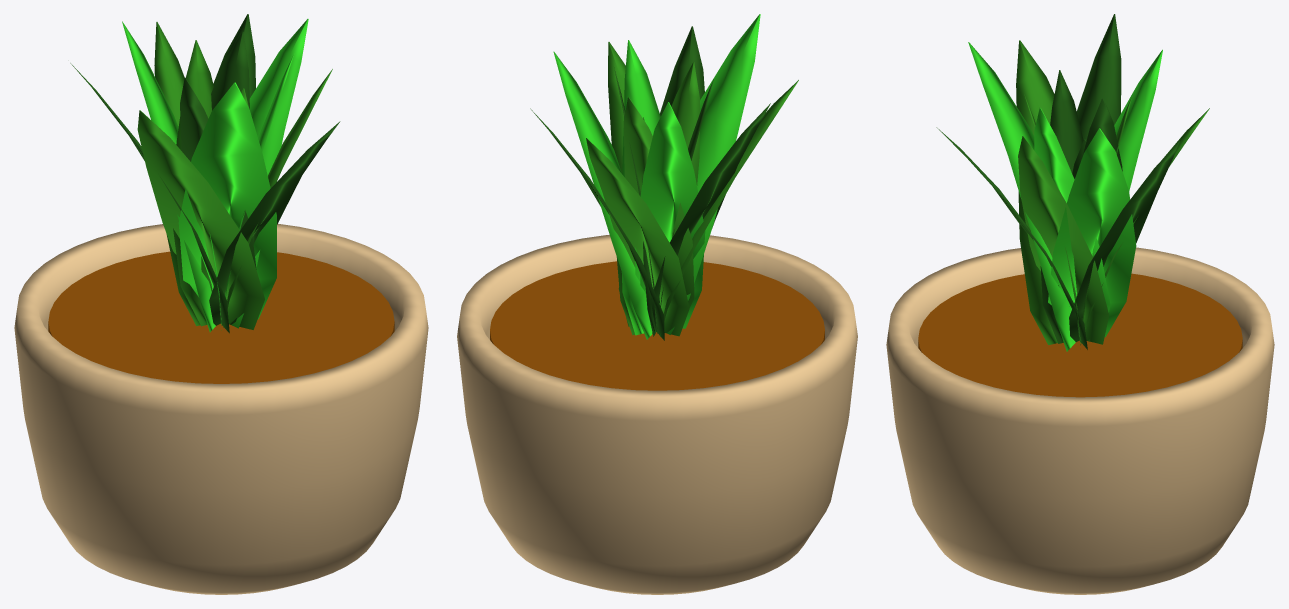
The model's file is Горшок.glb.
3 views of the same model, side by side, from view 1: azimuth 30°, elevation 25°; view 2: azimuth 150°, elevation 25°; view 3: azimuth 270°, elevation 25° (orthographic). The views are drawn at different scales.
Visible parts, largest first — view 1: Горшок, Грунт, Лист внешний 7, Лист внешний 6, Лист внешний 1, Лист внешний 8, Лист внешний 4, Лист внешний 3, Лист внутренний 2, Лист внутренний 4, Лист внутренний 1, Лист внешний 9 (+3 smaller); view 2: Горшок, Грунт, Лист внешний 3, Лист внешний 7, Лист внешний 4, Лист внешний 1, Лист внешний 5, Лист внутренний 2, Лист внутренний 6, Лист внешний 9, Лист внутренний 5, Лист внешний 6 (+2 smaller); view 3: Горшок, Грунт, Лист внешний 1, Лист внешний 9, Лист внешний 7, Лист внешний 6, Лист внешний 5, Лист внешний 2, Лист внешний 4, Лист внутренний 4, Лист внутренний 6, Лист внешний 8 (+1 smaller).
Part boxes in pixels (x1,y1,x2,y2): Горшок: (14,223,428,594); Грунт: (48,251,394,383); Лист внешний 7: (178,82,276,319); Лист внешний 6: (137,110,264,329); Лист внешний 1: (231,19,308,328); Лист внешний 8: (209,121,340,325); Лист внешний 4: (122,21,215,332); Лист внешний 3: (154,22,200,325); Лист внутренний 2: (173,40,213,326); Лист внутренний 4: (180,77,256,269); Лист внутренний 1: (211,31,249,110); Лист внешний 9: (223,69,332,327); Горшок: (457,234,857,594); Грунт: (490,261,824,390); Лист внешний 3: (586,138,689,336); Лист внешний 7: (667,14,760,334); Лист внешний 4: (635,102,705,328); Лист внешний 1: (553,51,652,339); Лист внешний 5: (650,103,770,333); Лист внутренний 2: (623,97,694,307); Лист внутренний 6: (621,40,660,335); Лист внешний 9: (608,42,634,335); Лист внутренний 5: (671,62,699,185); Лист внешний 6: (660,80,798,336); Горшок: (886,247,1274,594); Грунт: (918,273,1242,397); Лист внешний 1: (1048,128,1136,337); Лист внешний 9: (1018,136,1109,344); Лист внешний 7: (968,42,1075,351); Лист внешний 6: (1016,40,1057,344); Лист внешний 5: (1076,14,1121,140); Лист внешний 2: (1069,141,1179,341); Лист внешний 4: (1088,49,1162,341); Лист внутренний 4: (1040,70,1083,343); Лист внутренний 6: (1034,108,1110,312); Лист внешний 8: (936,127,1087,349).
Size of the model in its own units: 1.4 by 1.92 by 1.4.
